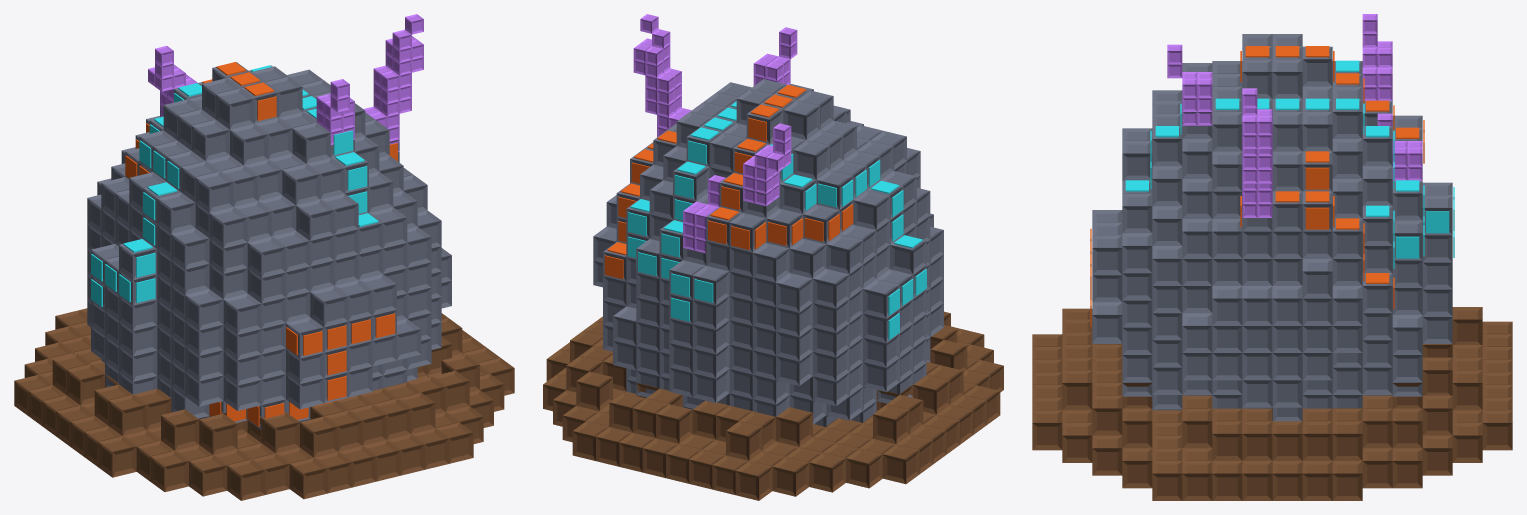
File: Geoda_Mediana.fbx
The picture shows the model from 3 angles, left to right: view 1: azimuth 30°, elevation 25°; view 2: azimuth 150°, elevation 25°; view 3: azimuth 270°, elevation 25°; orthographic projection. The views are drawn at different scales.
Visible parts, largest first — view 1: Roca, Base, Cristales, Grietas2, Grietas; view 2: Roca, Base, Cristales, Grietas2, Grietas; view 3: Roca, Base, Cristales, Grietas, Grietas2.
Part boxes in pixels (x1,y1,x2,y2): Roca: (87, 62, 451, 430); Base: (14, 308, 514, 500); Cristales: (148, 14, 423, 152); Grietas2: (91, 65, 378, 306); Grietas: (125, 62, 397, 426); Roca: (593, 79, 943, 426); Base: (543, 311, 1003, 500); Cristales: (633, 14, 797, 253); Grietas2: (628, 101, 926, 339); Grietas: (604, 84, 853, 279); Roca: (1092, 34, 1452, 421); Base: (1032, 307, 1512, 500); Cristales: (1167, 14, 1422, 217); Grietas: (1090, 46, 1424, 344); Grietas2: (1125, 60, 1454, 268).
Size of the model in its own units: 1.68 by 1.47 by 1.68.
